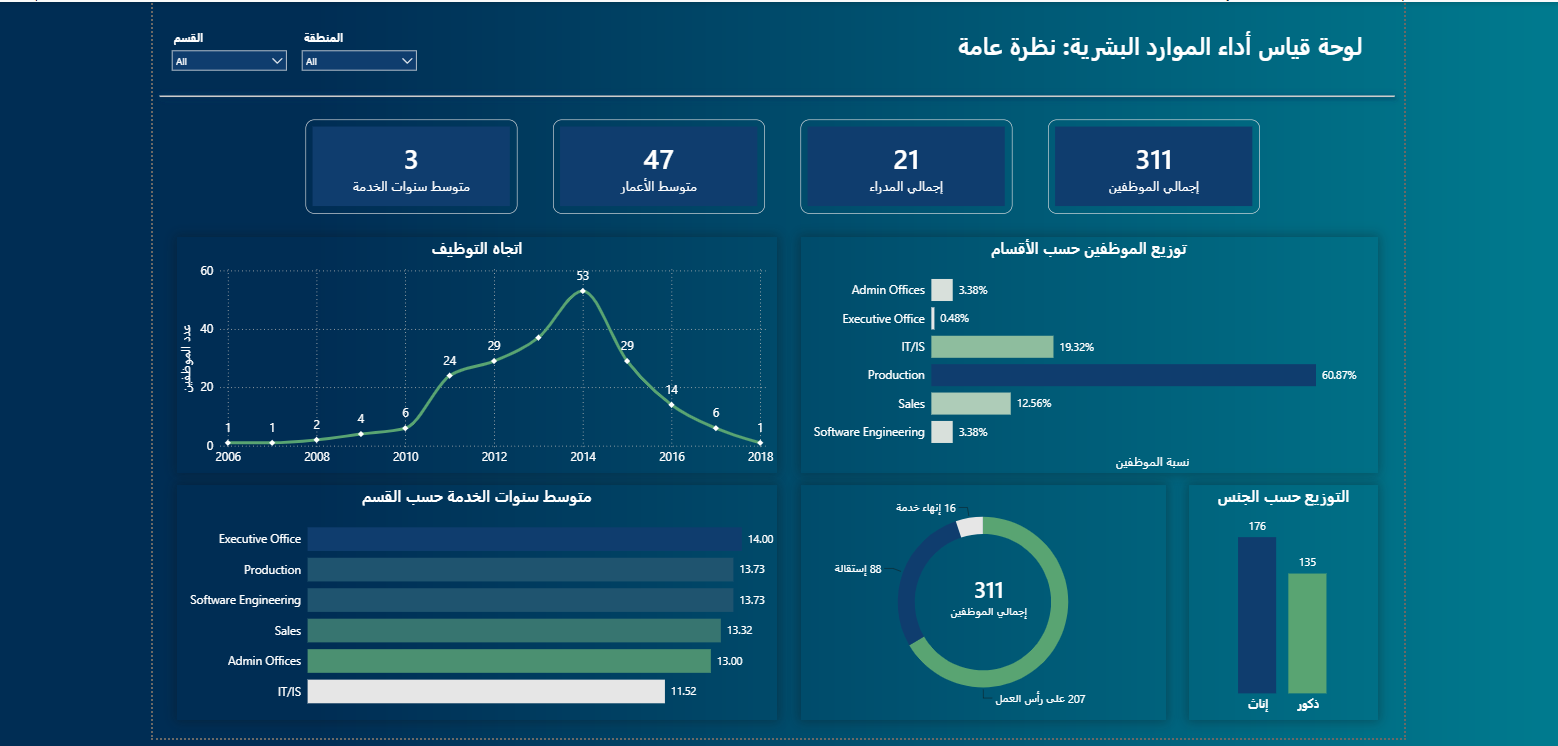

The page's visual inventory and layout, read from the dashboard file:
{"tool":"powerbi","page":{"name":"نظرة عامة","canvas":[1700,1000],"ordinal":0},"visuals":[{"type":"cardVisual","fields":{"Data":["All-Measuers.عدد الموظفين"]},"box":[1216,160,288,128],"z":0},{"type":"cardVisual","fields":{"Data":["All-Measuers.Avg. Stay Duration"]},"box":[208,160,288,128],"z":1000},{"type":"cardVisual","fields":{"Data":["All-Measuers.Avg. Employee Age"]},"box":[544,160,288,128],"z":2000},{"type":"lineChart","title":"اتجاه التوظيف","fields":{"Category":["Date_Dim.Year"],"Y":["All-Measuers.Headcount"]},"box":[32,320,816,320],"z":3000},{"type":"clusteredBarChart","title":"توزيع الموظفين حسب الأقسام","fields":{"Category":["Departments.DepartmentName"],"Y":["All-Measuers.Headcount %"]},"box":[880,320,784,320],"z":4000},{"type":"textbox","box":[1056,32,624,80],"z":5000},{"type":"cardVisual","fields":{"Data":["All-Measuers.Manger_Count"]},"box":[880,160,288,128],"z":6000},{"type":"donutChart","fields":{"Y":["All-Measuers.Total_Employees"],"Category":["EmploymentStatus_Dim.EmploymentStatus (groups("]},"box":[880,656,496,320],"z":6000,"group":"g1"},{"type":"slicer","title":"السنة","fields":{"Values":["Employees.State"]},"box":[192,32,176,96],"z":7000},{"type":"slicer","fields":{"Values":["Departments.DepartmentName"]},"box":[16,32,176,80],"z":8000},{"type":"shape","box":[0,112,1696,32],"z":9000},{"type":"cardVisual","fields":{"Data":["All-Measuers.عدد الموظفين"]},"box":[1040,752,192,112],"z":9000,"group":"g1"},{"type":"clusteredBarChart","title":"متوسط سنوات الخدمة حسب القسم","fields":{"Category":["Departments.DepartmentName"],"Y":["All-Measuers.Average Tenure per Dept"]},"box":[32,656,816,320],"z":11000},{"type":"group","id":"g1","title":"Group 1","box":[880,656,496,320],"z":12000},{"type":"columnChart","title":"التوزيع حسب الجنس","fields":{"Category":["Gender_Dim.Sex (groups)"],"Y":["All-Measuers.Total_Employees"]},"box":[1408,656,256,320],"z":13000}]}

Visuals, with their boxes on the page's 1700x1000 design canvas (x1, y1, x2, y2). These are canvas units, not pixel positions in the 1558x746 screenshot, which may show the page scaled, cropped or inside an application window:
cardVisual - All-Measuers.عدد الموظفين: (1216, 160, 1504, 288)
cardVisual - All-Measuers.Avg. Stay Duration: (208, 160, 496, 288)
cardVisual - All-Measuers.Avg. Employee Age: (544, 160, 832, 288)
"اتجاه التوظيف" lineChart: (32, 320, 848, 640)
"توزيع الموظفين حسب الأقسام" clusteredBarChart: (880, 320, 1664, 640)
textbox: (1056, 32, 1680, 112)
cardVisual - All-Measuers.Manger_Count: (880, 160, 1168, 288)
donutChart - All-Measuers.Total_Employees x EmploymentStatus_Dim.EmploymentStatus (groups(: (880, 656, 1376, 976)
"السنة" slicer: (192, 32, 368, 128)
slicer - Departments.DepartmentName: (16, 32, 192, 112)
shape: (0, 112, 1696, 144)
cardVisual - All-Measuers.عدد الموظفين: (1040, 752, 1232, 864)
"متوسط سنوات الخدمة حسب القسم" clusteredBarChart: (32, 656, 848, 976)
"Group 1" group: (880, 656, 1376, 976)
"التوزيع حسب الجنس" columnChart: (1408, 656, 1664, 976)
